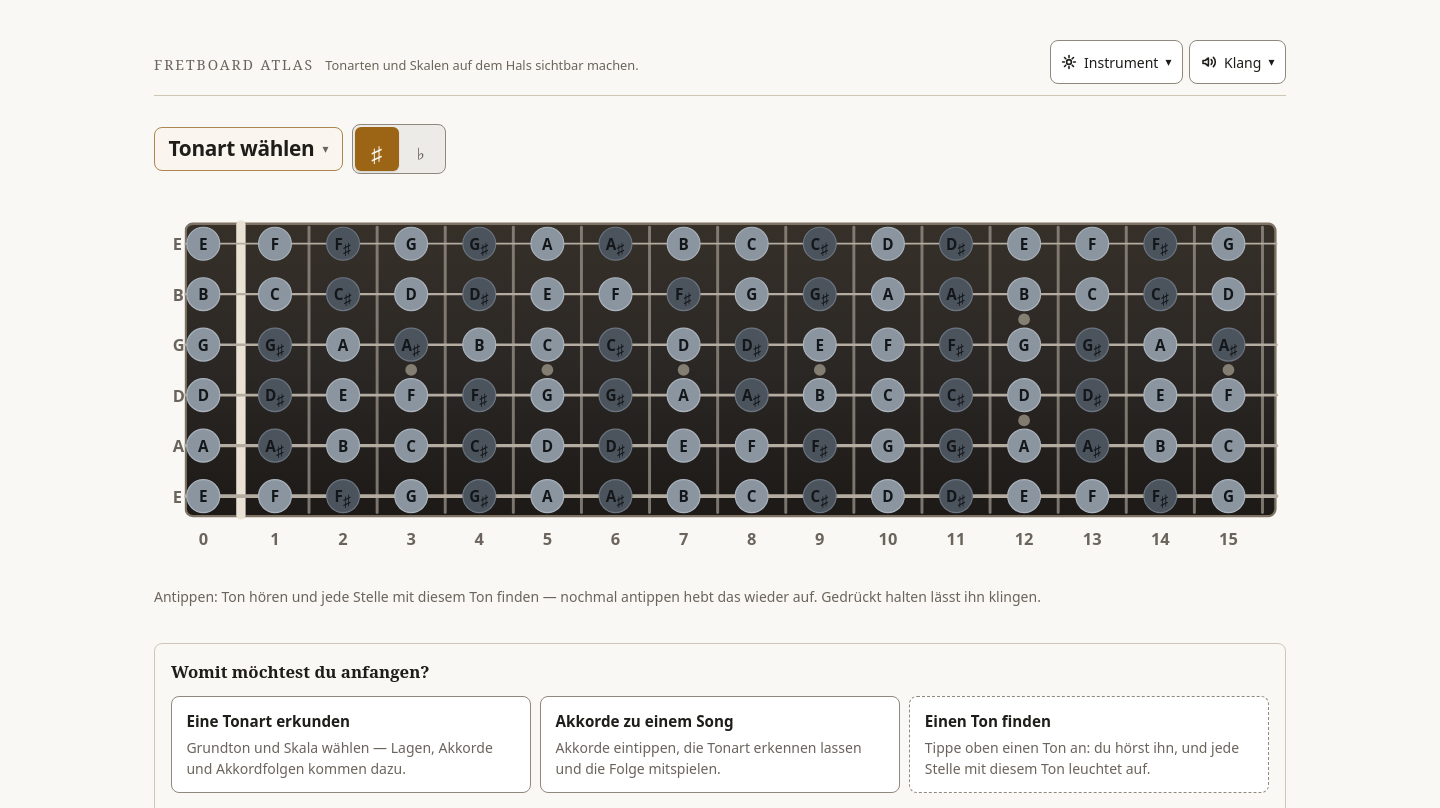
Test: App — Alle Töne › macht aus einem Grundton allein gleich eine Tonart — Dur
Click the button with class "key-trigger": x=248, y=149 [154, 127, 343, 171]
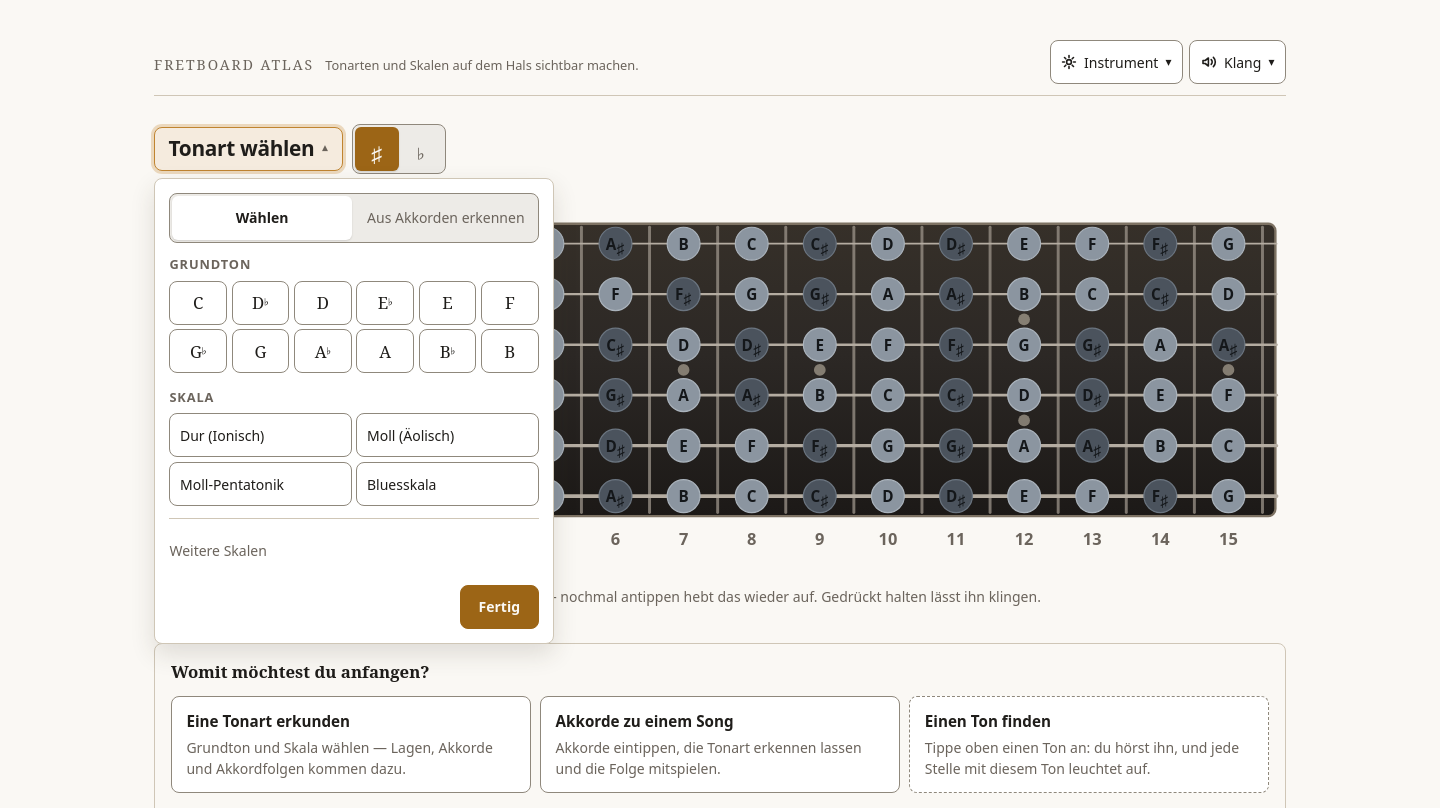
Click the 2nd button "G": x=260, y=351 [232, 329, 289, 373]
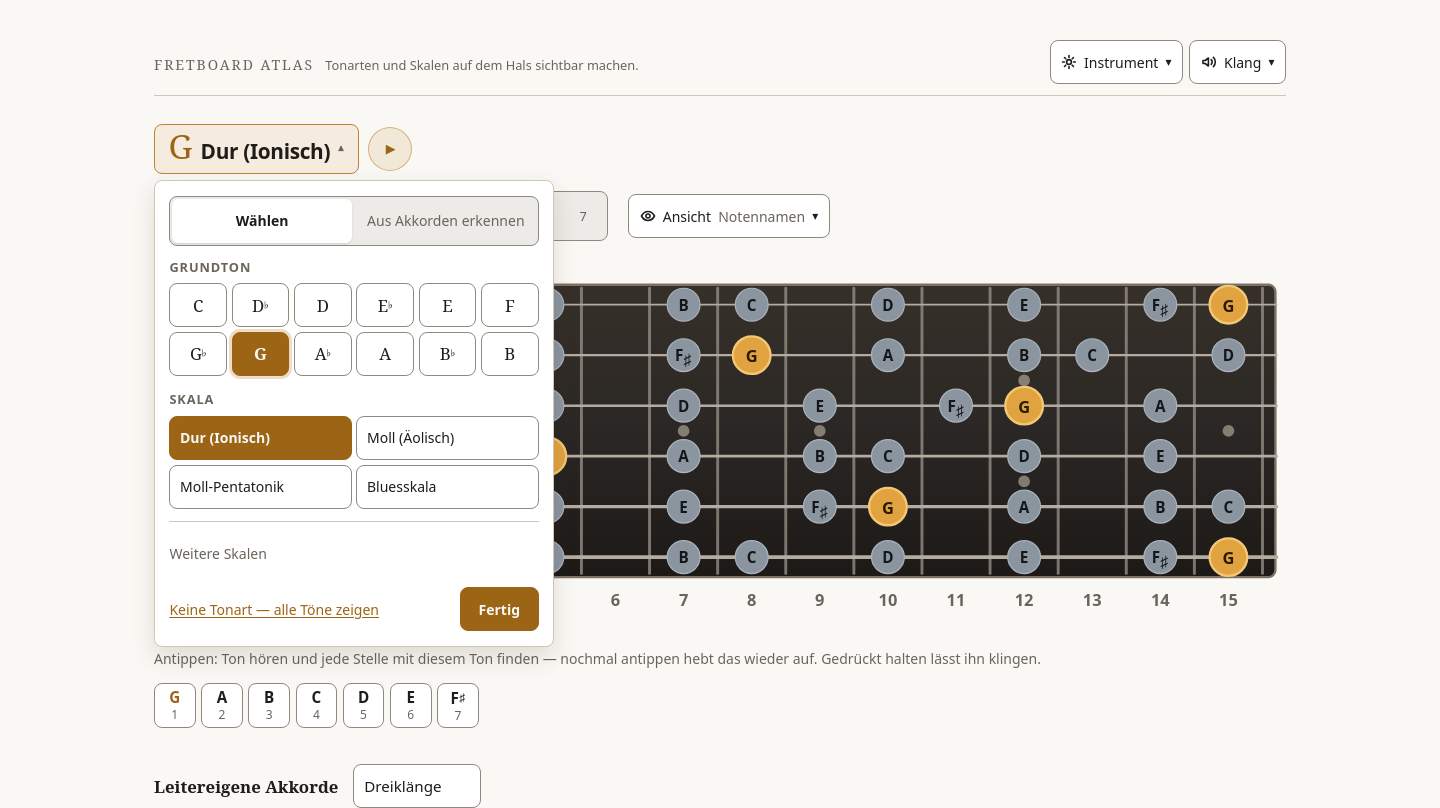
Result: the element with class "neck-bar" is shown at [154, 191, 830, 241]
